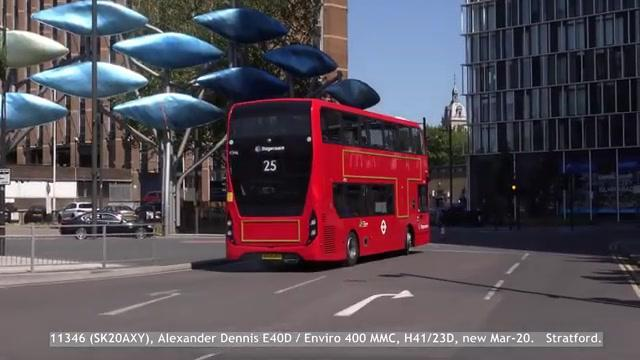bus: (223, 95, 437, 265)
car: (58, 209, 154, 240)
